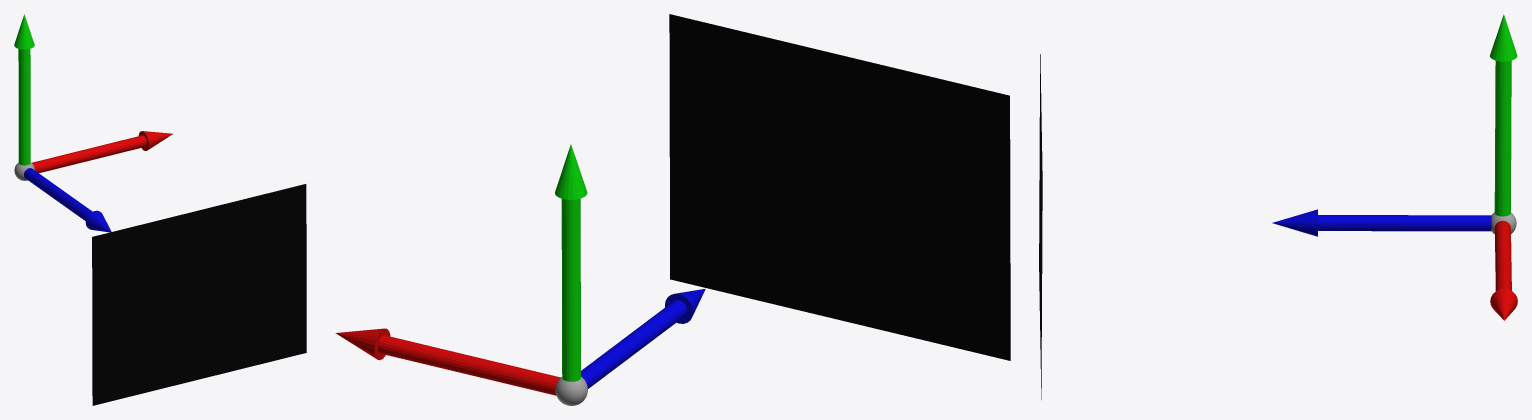
The picture shows the model from 3 angles, left to right: view 1: azimuth 30°, elevation 25°; view 2: azimuth 150°, elevation 25°; view 3: azimuth 270°, elevation 25°; orthographic projection. The views are drawn at different scales.
Bounding box in the file's own units: 0.2132 × 0.1913 × 0.2592.
